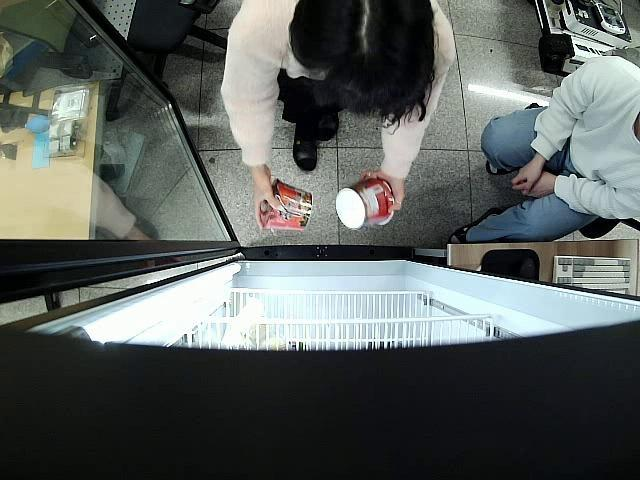01_ShinRamen_L: (336, 175, 397, 232), (258, 177, 313, 234)
